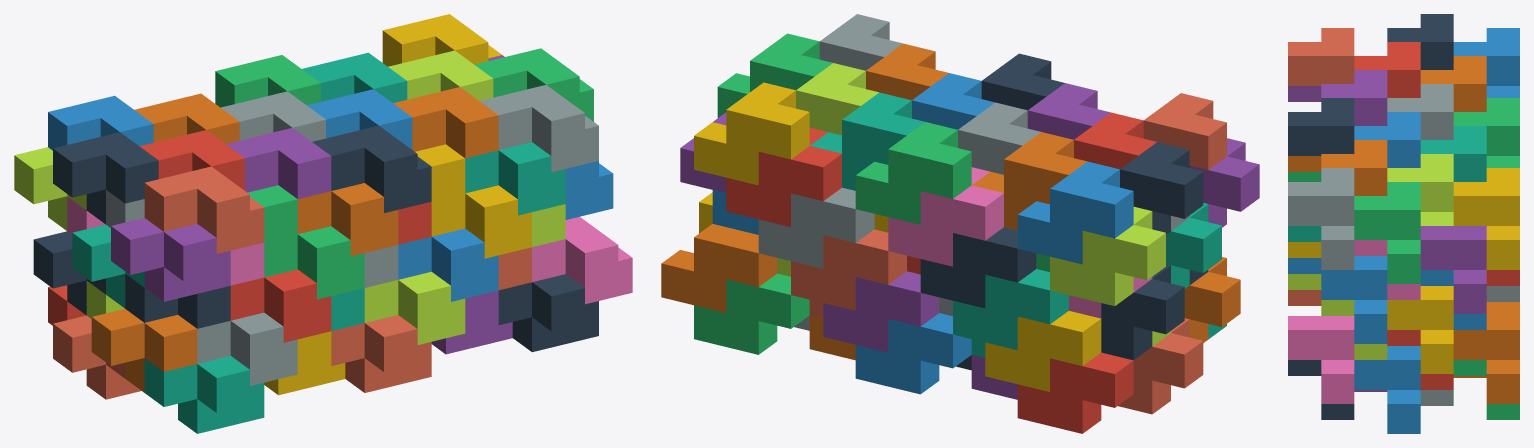
File: tiling.obj
3 views of the same model, side by side, from view 1: azimuth 30°, elevation 25°; view 2: azimuth 150°, elevation 25°; view 3: azimuth 270°, elevation 25° (orthographic). The views are drawn at different scales.
Parts seen in each view (by area): view 1: copy_89, copy_92, copy_79, copy_94, copy_93, copy_45, copy_81, copy_80, copy_66, copy_84, copy_77, copy_78 (+38 smaller); view 2: copy_15, copy_14, copy_16, copy_11, copy_6, copy_1, copy_12, copy_13, copy_2, copy_3, copy_4, copy_5 (+27 smaller); view 3: copy_16, copy_63, copy_94, copy_6, copy_29, copy_84, copy_40, copy_50, copy_74, copy_92, copy_93, copy_47 (+27 smaller).
Boxes of the visible parts, left/top/right/bottom form: copy_89: left=111, top=218, right=230, bottom=301; copy_92: left=144, top=166, right=264, bottom=253; copy_79: left=144, top=356, right=264, bottom=433; copy_94: left=479, top=85, right=598, bottom=172; copy_93: left=312, top=125, right=431, bottom=212; copy_45: left=53, top=132, right=158, bottom=224; copy_81: left=498, top=274, right=598, bottom=352; copy_80: left=331, top=315, right=431, bottom=392; copy_66: left=91, top=309, right=197, bottom=392; copy_84: left=532, top=216, right=632, bottom=304; copy_77: left=226, top=128, right=331, bottom=198; copy_78: left=393, top=87, right=498, bottom=158; copy_15: left=855, top=122, right=971, bottom=224; copy_14: left=1017, top=161, right=1133, bottom=264; copy_16: left=694, top=82, right=809, bottom=185; copy_11: left=1050, top=206, right=1165, bottom=306; copy_6: left=661, top=224, right=777, bottom=312; copy_1: left=1017, top=352, right=1133, bottom=433; copy_12: left=888, top=167, right=1003, bottom=266; copy_13: left=726, top=127, right=841, bottom=227; copy_2: left=855, top=313, right=971, bottom=394; copy_3: left=694, top=273, right=809, bottom=354; copy_4: left=985, top=311, right=1101, bottom=391; copy_5: left=823, top=271, right=939, bottom=352; copy_16: left=1453, top=168, right=1519, bottom=269; copy_63: left=1354, top=182, right=1420, bottom=283; copy_94: left=1288, top=168, right=1354, bottom=269; copy_6: left=1453, top=302, right=1519, bottom=403; copy_29: left=1420, top=226, right=1486, bottom=313; copy_84: left=1288, top=316, right=1354, bottom=403; copy_40: left=1387, top=286, right=1453, bottom=373; copy_50: left=1354, top=346, right=1420, bottom=433; copy_74: left=1321, top=256, right=1387, bottom=343; copy_92: left=1288, top=28, right=1354, bottom=85; copy_93: left=1288, top=98, right=1354, bottom=155; copy_47: left=1387, top=154, right=1453, bottom=225.
Bounding box in the file's own units: 15 × 7 × 7.
